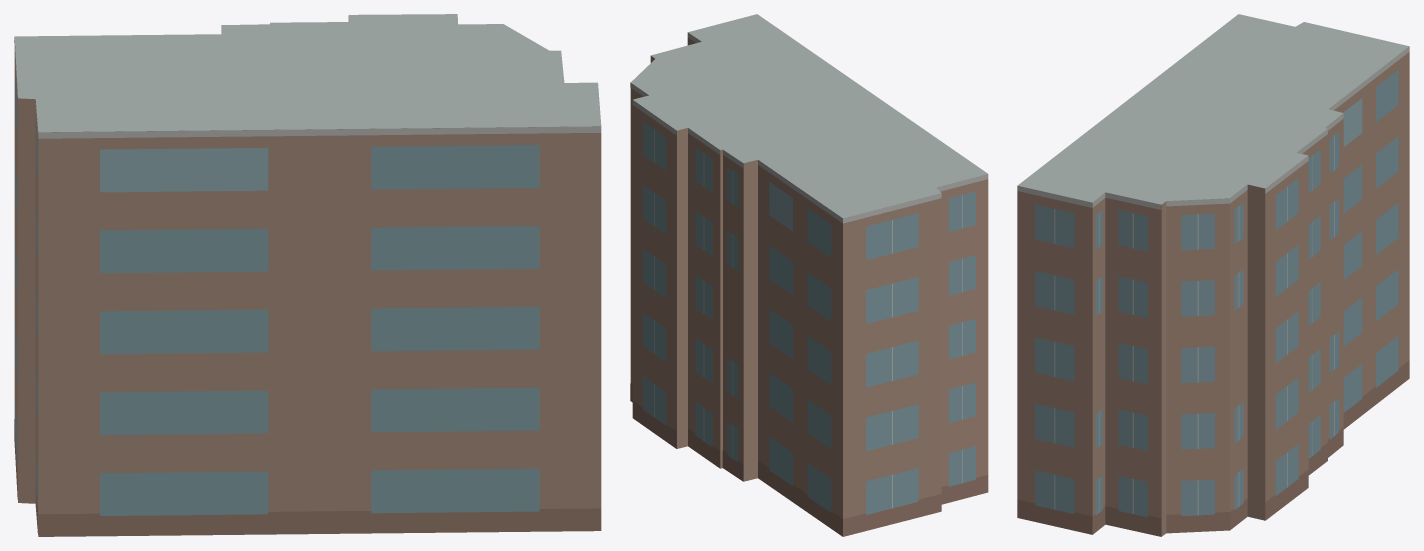
File: survey-upis-32602857.glb
3 renders of one model, left to right at view 1: azimuth 30°, elevation 25°; view 2: azimuth 150°, elevation 25°; view 3: azimuth 270°, elevation 25°, orthographic. The views are drawn at different scales.
Parts seen in each view (by area): view 1: survey-upis-32602857.tmp; view 2: survey-upis-32602857.tmp; view 3: survey-upis-32602857.tmp.
Part boxes in pixels (left/top/right/bottom): survey-upis-32602857.tmp: left=14, top=14, right=601, bottom=536; survey-upis-32602857.tmp: left=630, top=14, right=988, bottom=536; survey-upis-32602857.tmp: left=1017, top=14, right=1409, bottom=536.
Size of the model in its own units: 18.78 by 15.25 by 16.33.
